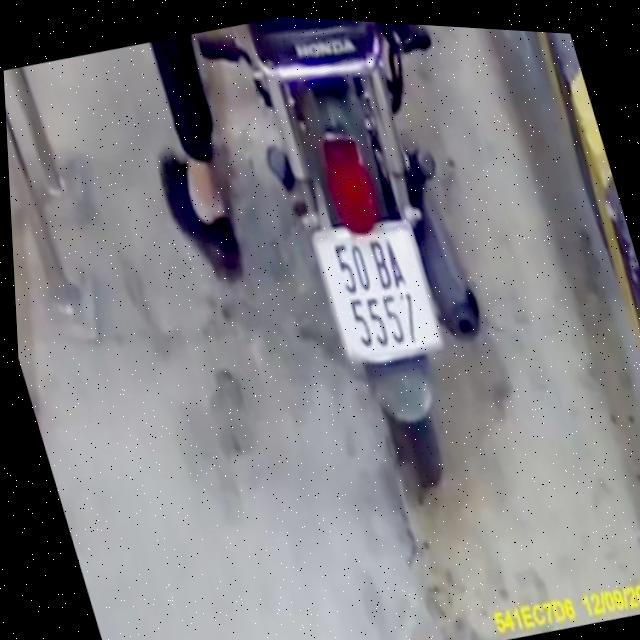motorcycle: (187, 11, 554, 534)
plate: (296, 201, 454, 378)
